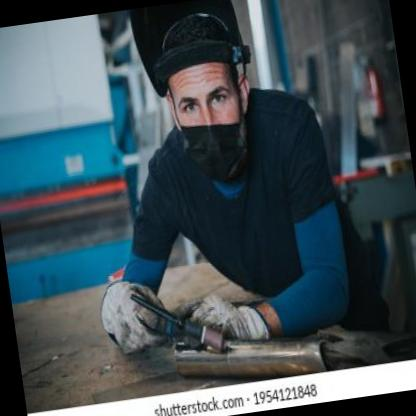Gloves: (168, 286, 270, 356), (96, 274, 172, 358)
